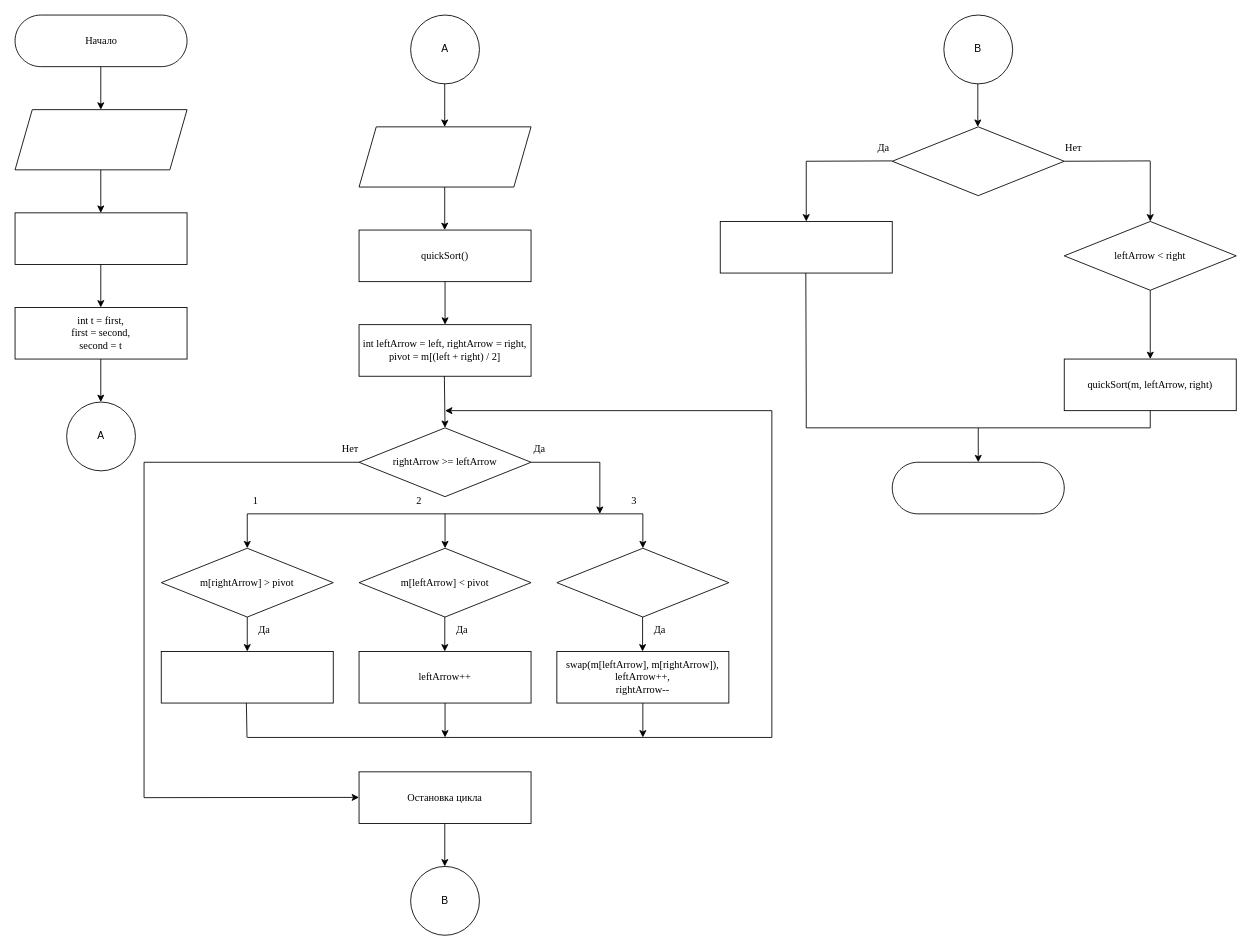
Image size: 1251x950. Some labels were removed from this diagram. Each missing label, with the centre of its shape:
"left < rightArrow" belongs at [977,161].
"leftArrow <= rightArrow" belongs at [642,582].
"quickSort(m, left, rightArrow)" belongs at [805,247].
"rightArrow--" belongs at [246,677].
"swap()" belongs at [100,238].
"Ввод: int& first, int& second" belongs at [100,139].
"Ввод: int* m, int left, int right" belongs at [444,156].
"Конец" belongs at [977,487].
